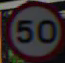Speed limit: (8, 4, 57, 56)
